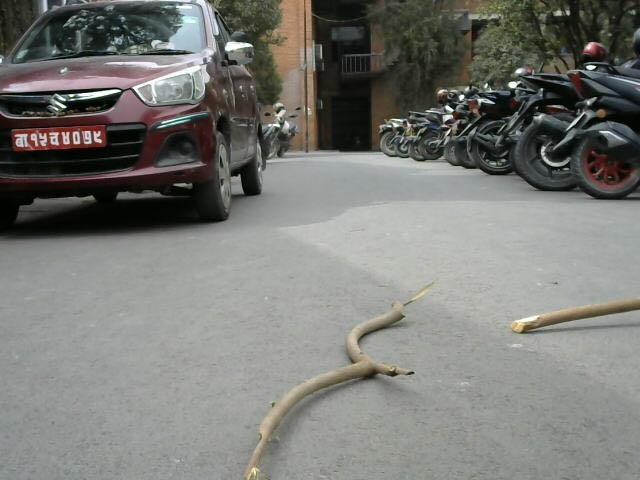Car: (0, 1, 266, 234)
Motorcycle: (381, 54, 640, 199)
Road: (0, 181, 640, 480)
